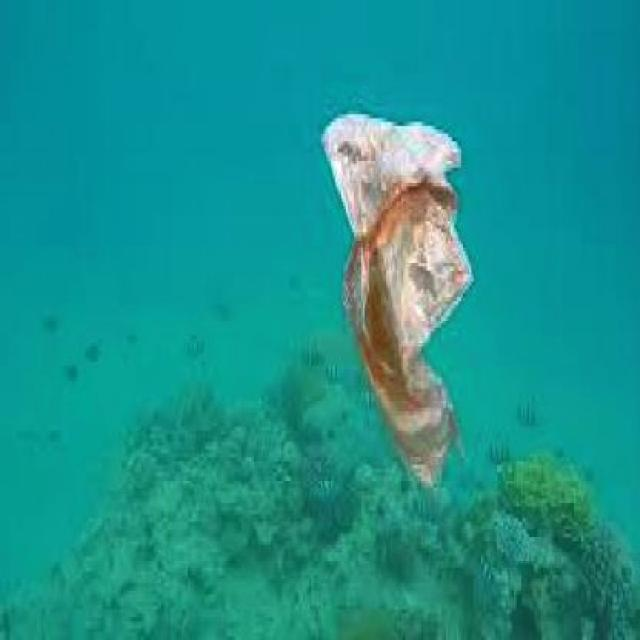pbag: (318, 111, 476, 495)
